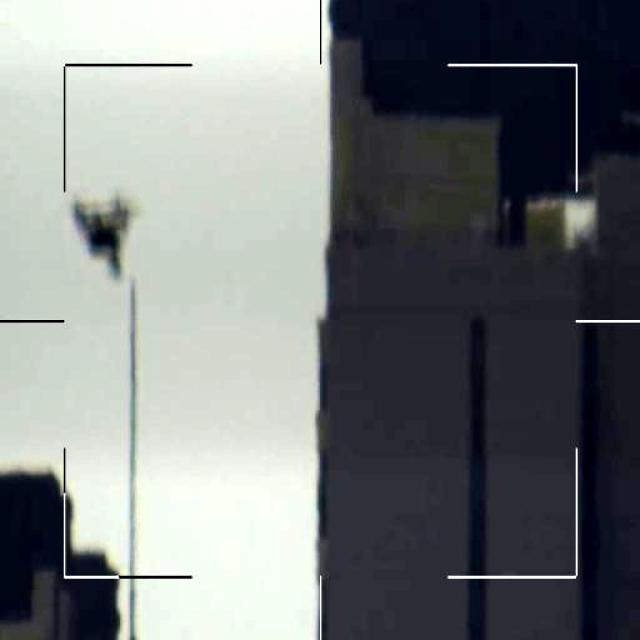bird: (71, 199, 140, 288)
